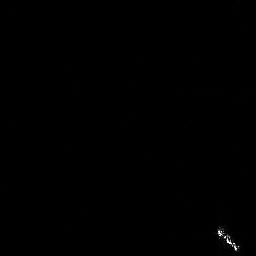ship: (212, 223, 243, 254)
